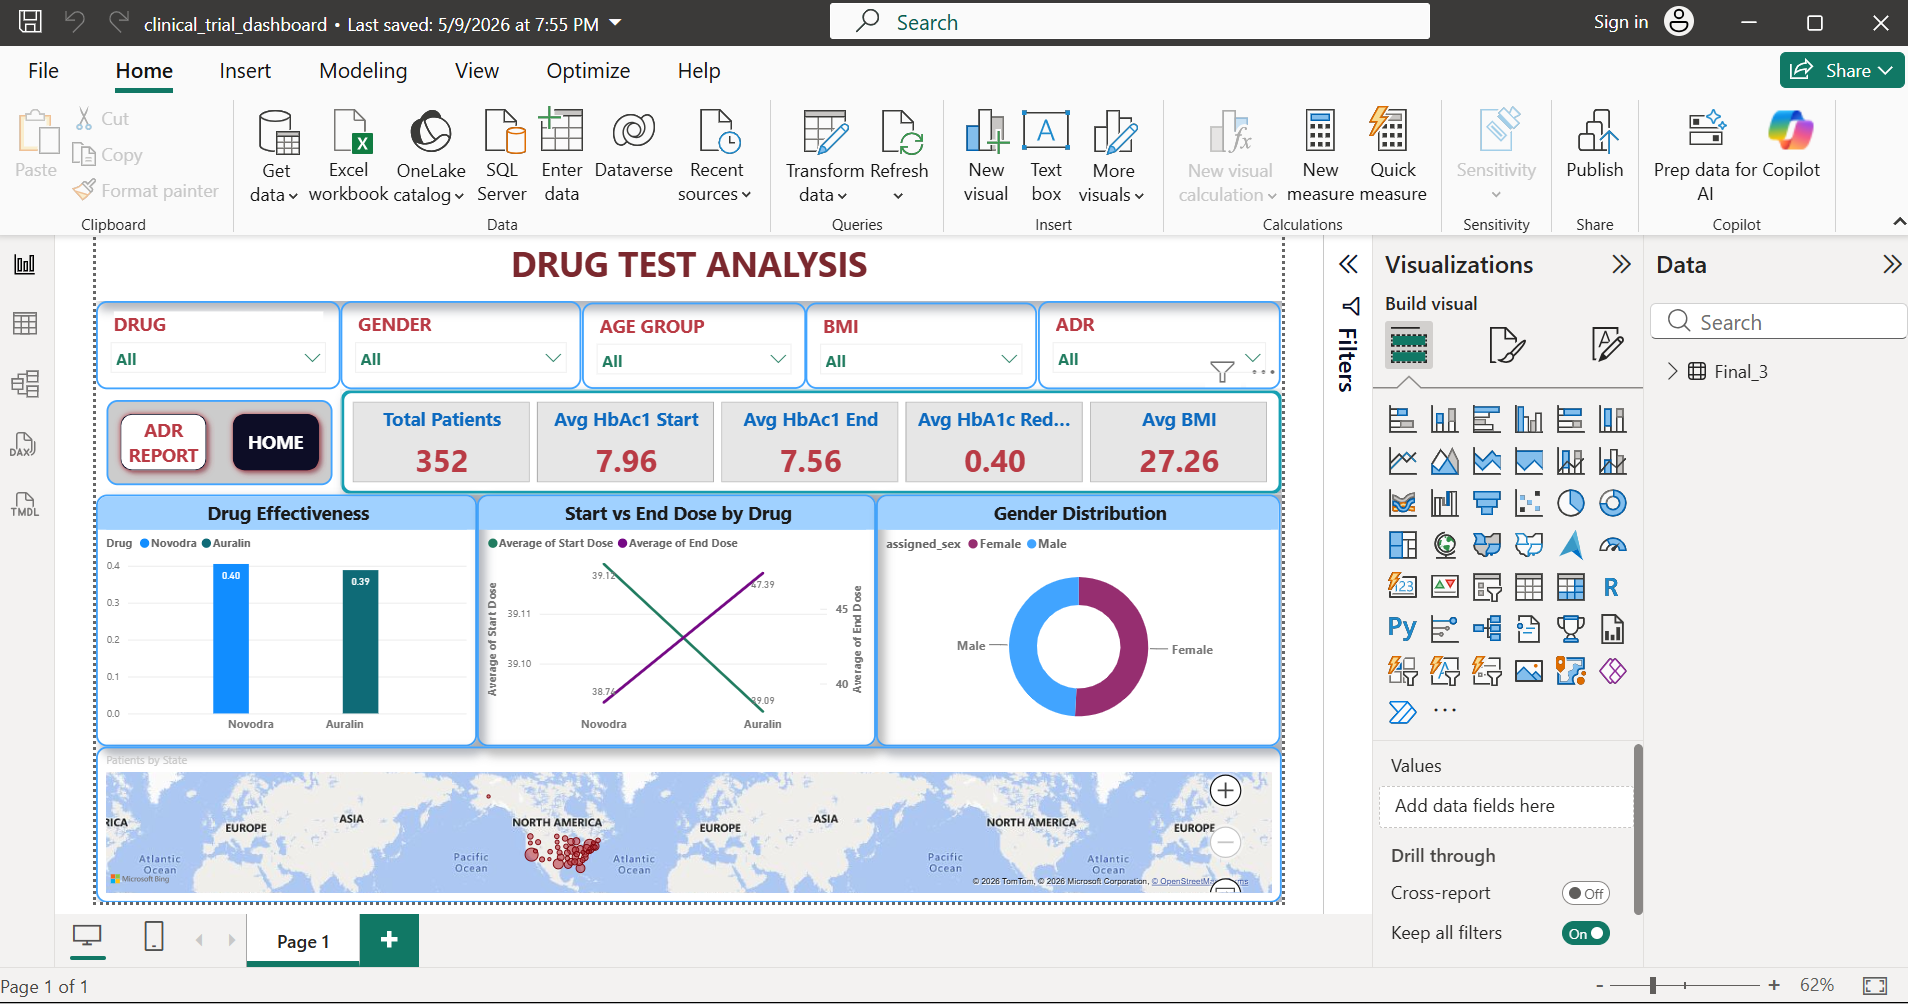

This screenshot's page, from the dashboard's own definition file:
{"tool":"powerbi","page":{"name":"Page 1","canvas":[1280,720],"ordinal":0},"visuals":[{"type":"textbox","box":[0,0,1280.6,71],"z":0},{"type":"cardVisual","fields":{"Data":["Final_3.Total Patients","Final_3.Avg HbAc1 Start","Final_3.Avg HbAc1 End","Final_3.Avg HbA1c Reduction","Final_3.Avg BMI"]},"box":[263.9,166.8,1016.9,113.3],"z":1000},{"type":"clusteredColumnChart","title":"Drug Effectiveness","fields":{"Category":["Final_3.Drug"],"Y":["Final_3.Avg HbA1c Reduction"],"Series":["Final_3.Drug"]},"box":[0,280,411,272],"z":2000},{"type":"lineChart","title":"Start vs End Dose by Drug","fields":{"Category":["Final_3.Drug"],"Y":["Avg(Final_3.Start Dose)"],"Y2":["Avg(Final_3.End Dose)"]},"box":[411,280,430.9,272],"z":3000},{"type":"donutChart","title":"Gender Distribution","fields":{"Y":["Final_3.Total Patients"],"Category":["Final_3.assigned_sex"]},"box":[841.9,280,436.8,272],"z":4000},{"type":"map","title":" Patients by State","fields":{"Category":["Final_3.state"],"Size":["Final_3.Total Patients"]},"box":[0,552.6,1280,168.6],"z":5000},{"type":"slicer","fields":{"Values":["Final_3.Drug"]},"box":[0,71.5,264.1,95.3],"z":6000},{"type":"slicer","fields":{"Values":["Final_3.assigned_sex"]},"box":[264.1,71.5,260.1,95.3],"z":7000},{"type":"slicer","fields":{"Values":["Final_3.Age Group"]},"box":[524.2,73.5,242.2,93.3],"z":8000},{"type":"slicer","fields":{"Values":["Final_3.BMI chart"]},"box":[766.4,73.5,250.2,93.3],"z":9000},{"type":"slicer","fields":{"Values":["Final_3.Adverse Drug Reaction"]},"box":[1016.6,71.5,262.1,95.3],"z":10000},{"type":"bookmarkNavigator","box":[11.5,178.2,244.3,92],"z":11000}]}

Visuals, with their boxes on the page's 1280x720 design canvas (x1, y1, x2, y2). These are canvas units, not pixel positions in the 1908x1004 screenshot, which may show the page scaled, cropped or inside an application window:
textbox: (x1=0, y1=0, x2=1281, y2=71)
cardVisual - Final_3.Total Patients x Final_3.Avg HbAc1 Start: (x1=264, y1=167, x2=1281, y2=280)
"Drug Effectiveness" clusteredColumnChart: (x1=0, y1=280, x2=411, y2=552)
"Start vs End Dose by Drug" lineChart: (x1=411, y1=280, x2=842, y2=552)
"Gender Distribution" donutChart: (x1=842, y1=280, x2=1279, y2=552)
" Patients by State" map: (x1=0, y1=553, x2=1280, y2=721)
slicer - Final_3.Drug: (x1=0, y1=72, x2=264, y2=167)
slicer - Final_3.assigned_sex: (x1=264, y1=72, x2=524, y2=167)
slicer - Final_3.Age Group: (x1=524, y1=74, x2=766, y2=167)
slicer - Final_3.BMI chart: (x1=766, y1=74, x2=1017, y2=167)
slicer - Final_3.Adverse Drug Reaction: (x1=1017, y1=72, x2=1279, y2=167)
bookmarkNavigator: (x1=12, y1=178, x2=256, y2=270)
